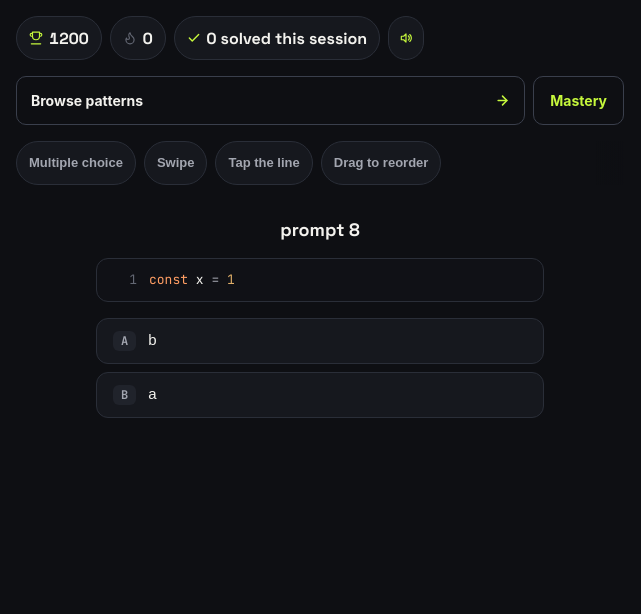
Scenario: PracticePage › browse-by-pattern: selecting a pattern filters subsequent puzzles and shows a way back to all patterns
The width and height of the screenshot is (641, 614).
Expected: the text "prompt 8" is shown, [280,218,360,241]
Click the link "Browse patterns" at (87, 100), box [16,76,525,125]
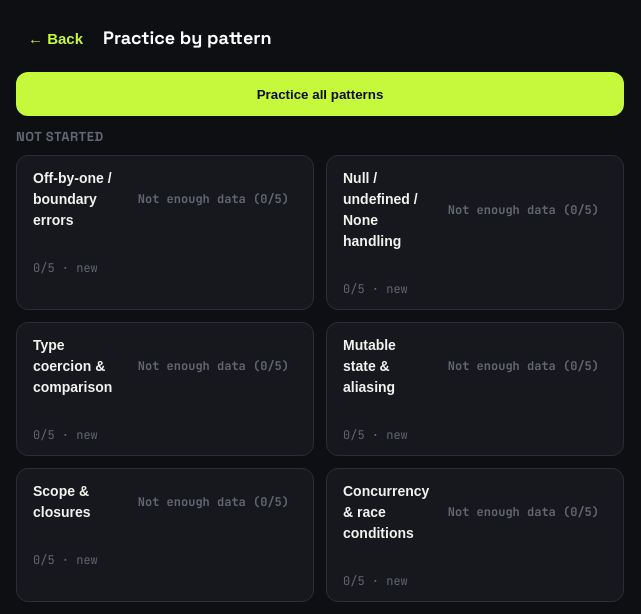
Now the text "Null / undefined / None handling" is shown
Click the text "Null / undefined / None handling" at (380, 209), box [343,170,418,249]
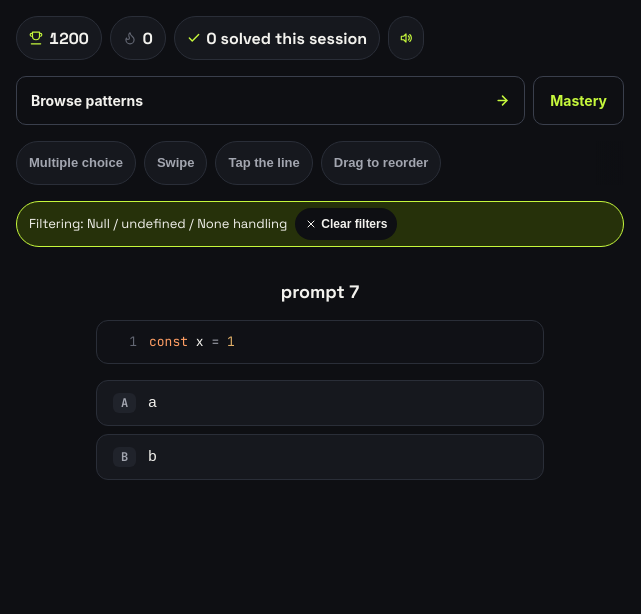
Now the link "Browse patterns" is shown
Note: Practice-all-patterns escape hatch is still reachable via Browse.
Click the link "Browse patterns" at (87, 100), box [16,76,525,125]
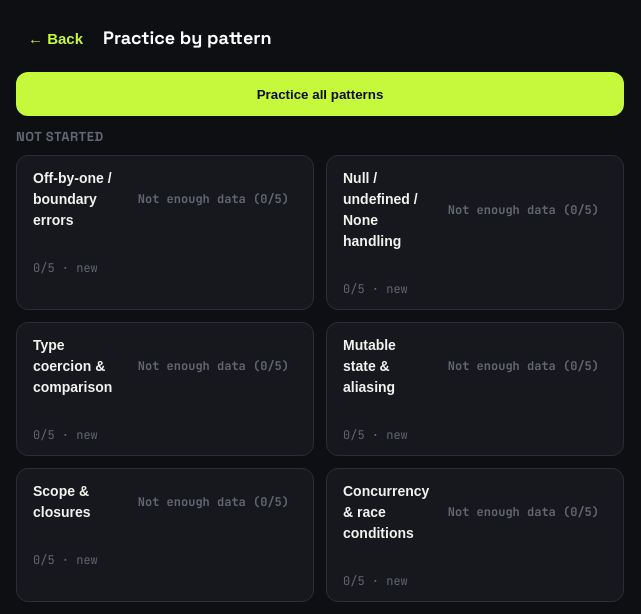
Now the button "Practice all patterns" is shown, box [16,72,624,116]
